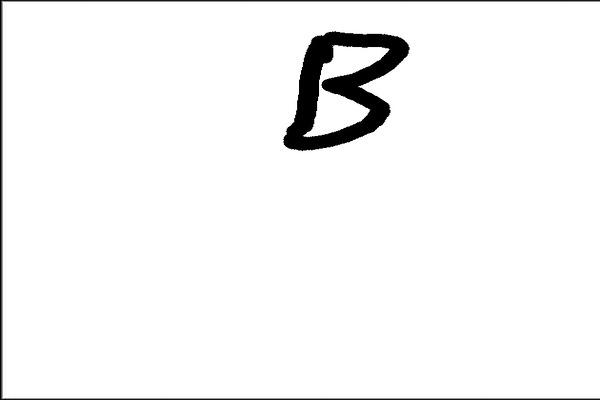B: (278, 23, 415, 157)
